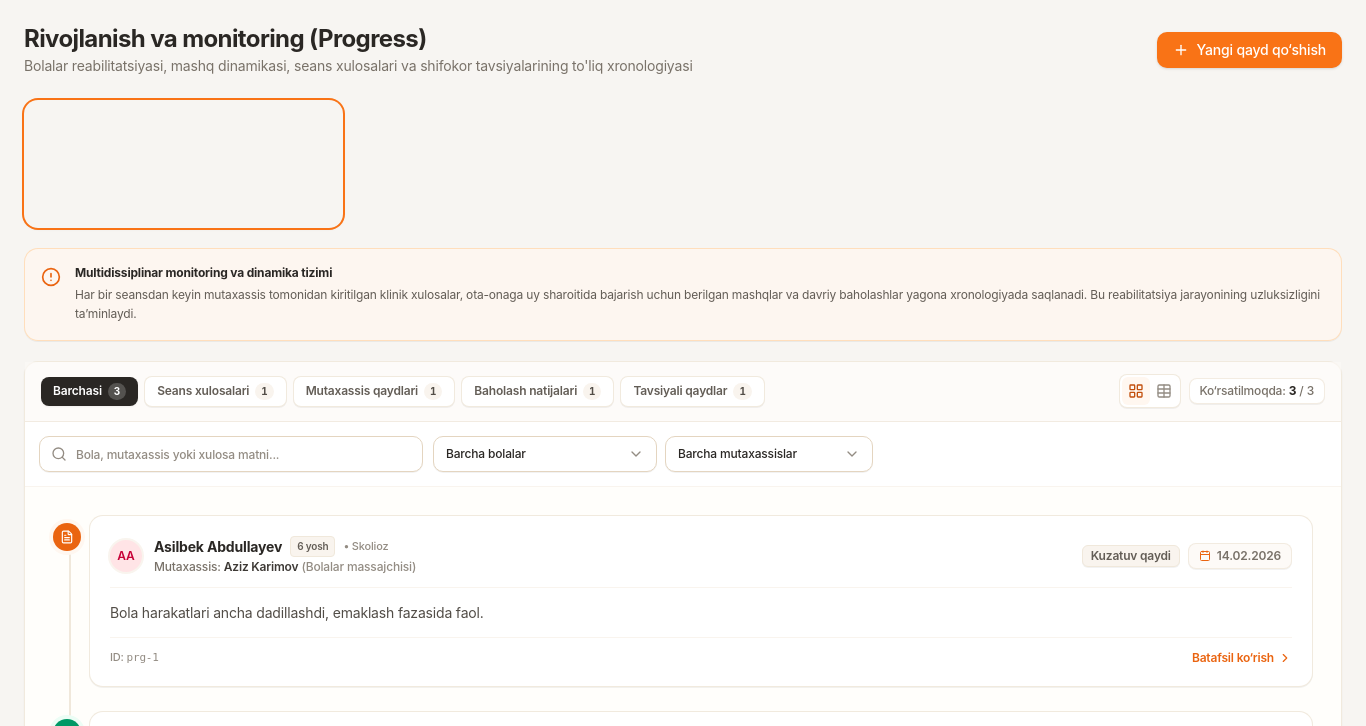
Test: ProgressPage Component › filters events by type tabs
# Filter by Seans xulosalari tab
Step 1. Click the button "Seans xulosalari 1" → x=215, y=391, box [144, 376, 287, 407]
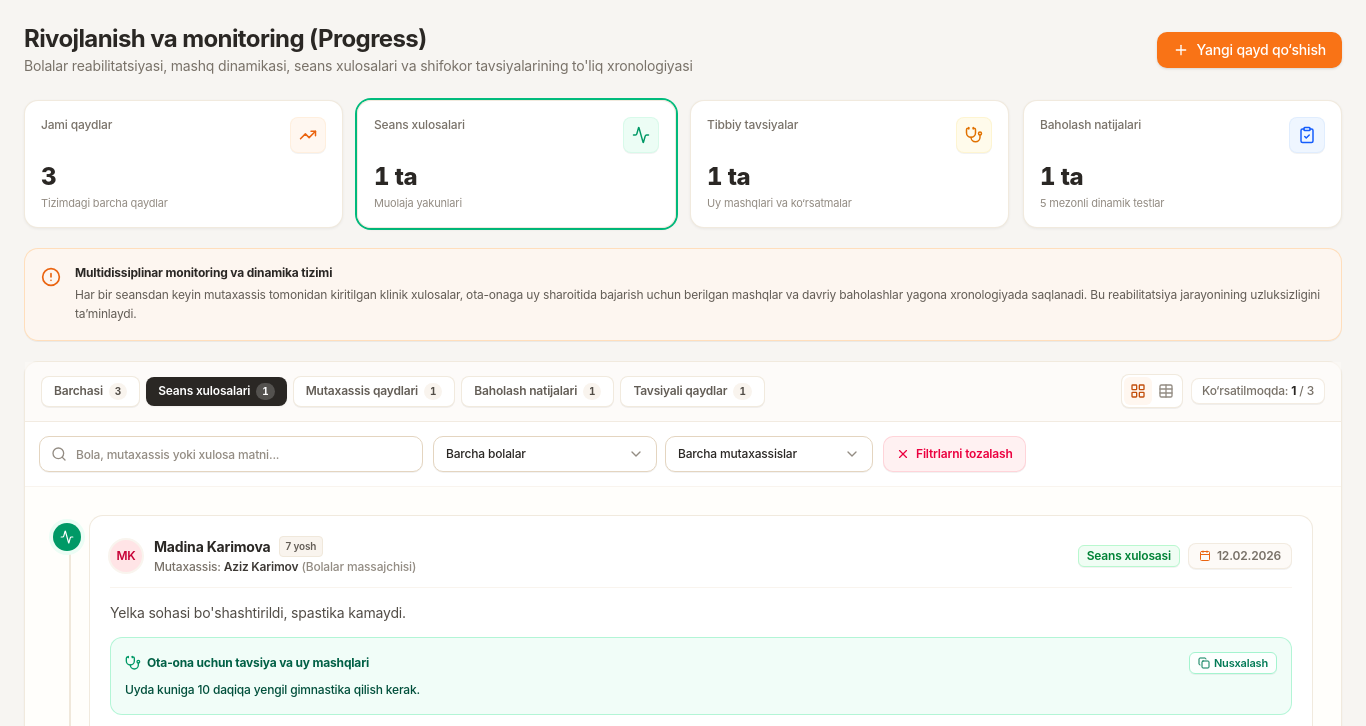
Check: the text "Yelka sohasi bo'shashtirildi, spastika kamaydi." is shown, box [110, 604, 406, 621]
Check: the button "Bola harakatlari ancha dadillashdi, emaklash fazasida faol." is gone
